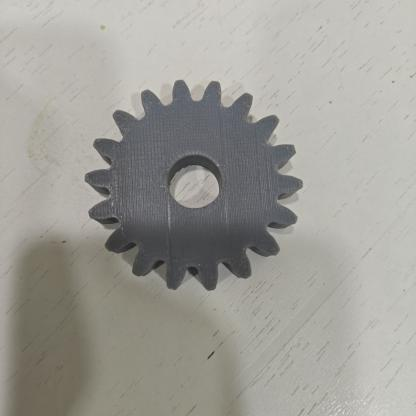gear: (85, 80, 302, 290)
